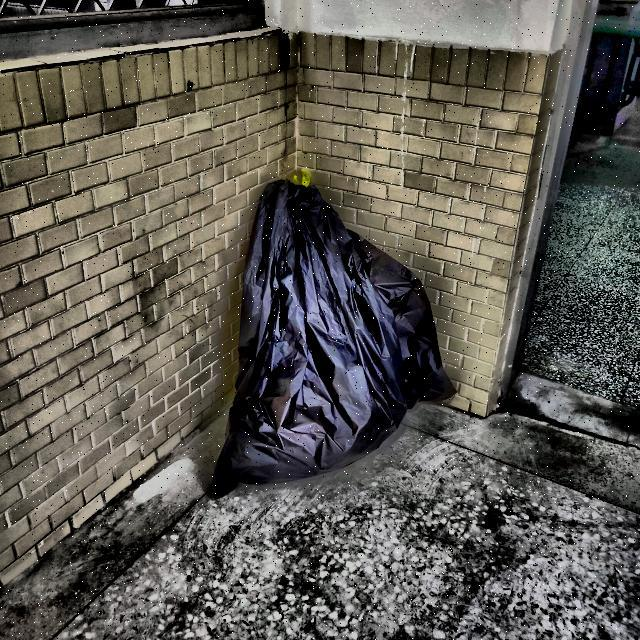Trashbag: (199, 173, 460, 519)
